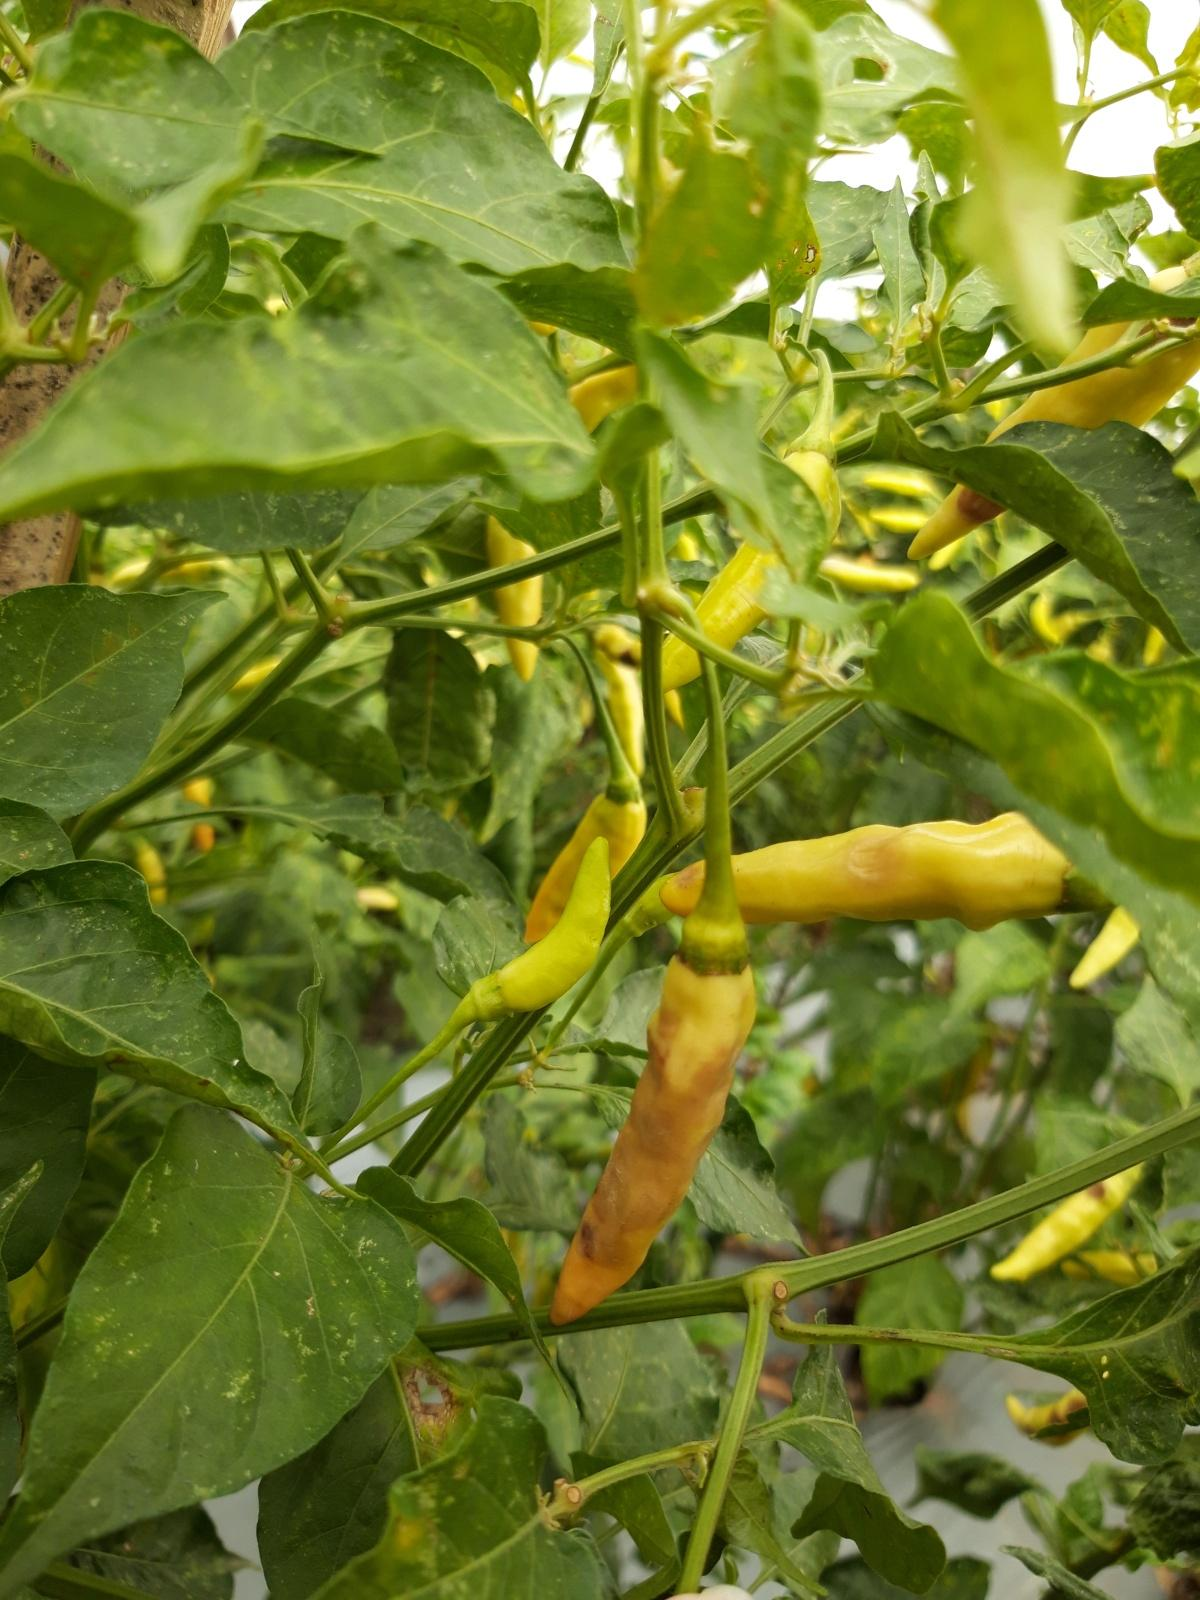cabai_normal: (657, 810, 1093, 934), (471, 838, 614, 1020)
lalat_buah: (548, 907, 759, 1324)
